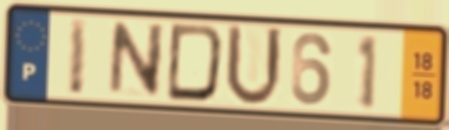1: (355, 32, 379, 113)
6: (289, 30, 336, 108)
D: (163, 21, 227, 106)
I: (66, 15, 91, 98)
N: (105, 20, 168, 99)
U: (222, 20, 285, 110)
